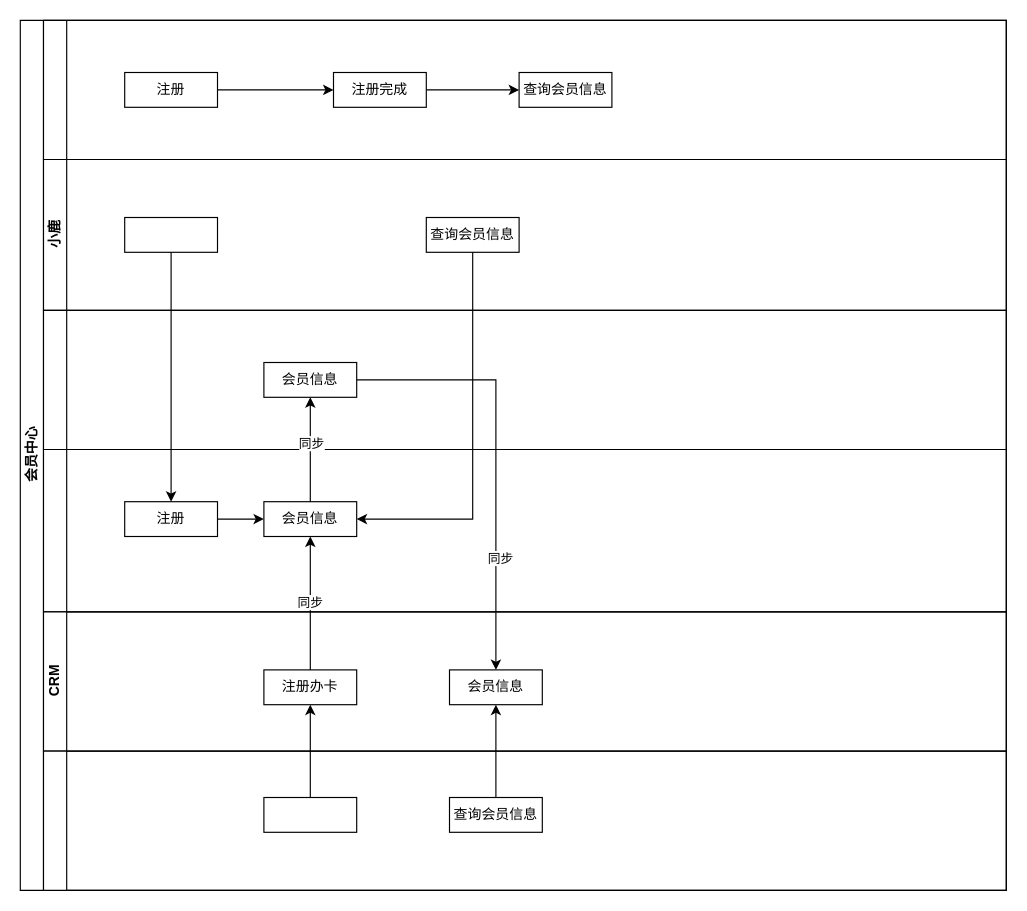
Some shapes in this 1027 by 911 pixel diagram are drawn without their labels. The shapes that lost their labels are listed below. From the top down, each one's box as (x1, y1, x2, y2) in pixels, then its label:
(42, 19, 1006, 160): 一美多
(124, 216, 217, 252): 登录注册
(42, 309, 1006, 449): ERP
(42, 448, 1006, 612): 集效系统
(263, 796, 357, 832): 代客办卡
(42, 750, 1006, 890): 店员助手
